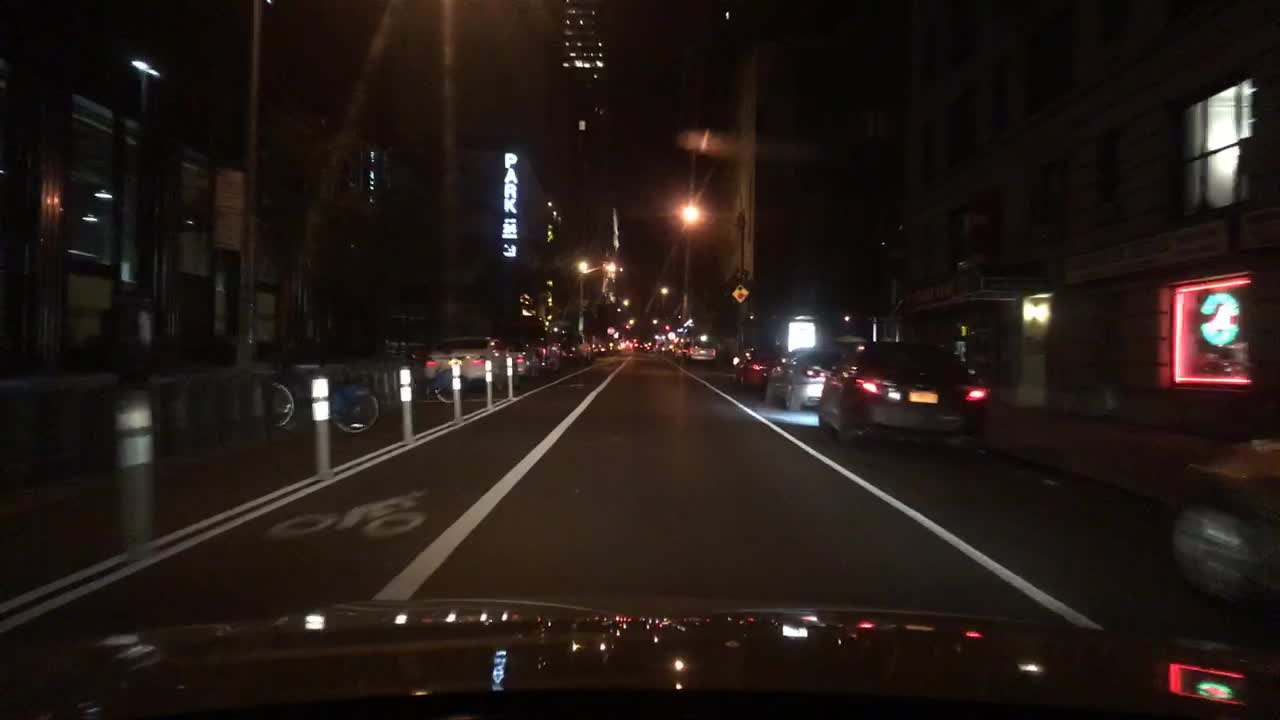bike: (237, 356, 378, 441), (379, 339, 465, 407)
car: (1167, 418, 1278, 622), (815, 340, 994, 452), (424, 335, 523, 394), (766, 345, 844, 411), (730, 343, 778, 393), (525, 339, 561, 374), (510, 351, 537, 380), (686, 339, 720, 362), (546, 341, 567, 373), (562, 340, 584, 367), (576, 331, 595, 361), (592, 342, 608, 355), (680, 344, 692, 361), (674, 343, 684, 358), (663, 341, 674, 354), (608, 341, 619, 351), (614, 340, 623, 349), (652, 343, 660, 352), (626, 340, 631, 349), (621, 339, 626, 348)
traffic sign: (214, 167, 244, 212), (214, 213, 243, 251), (732, 284, 749, 303), (578, 314, 584, 328), (606, 325, 615, 334), (666, 331, 676, 339), (613, 330, 619, 339)
